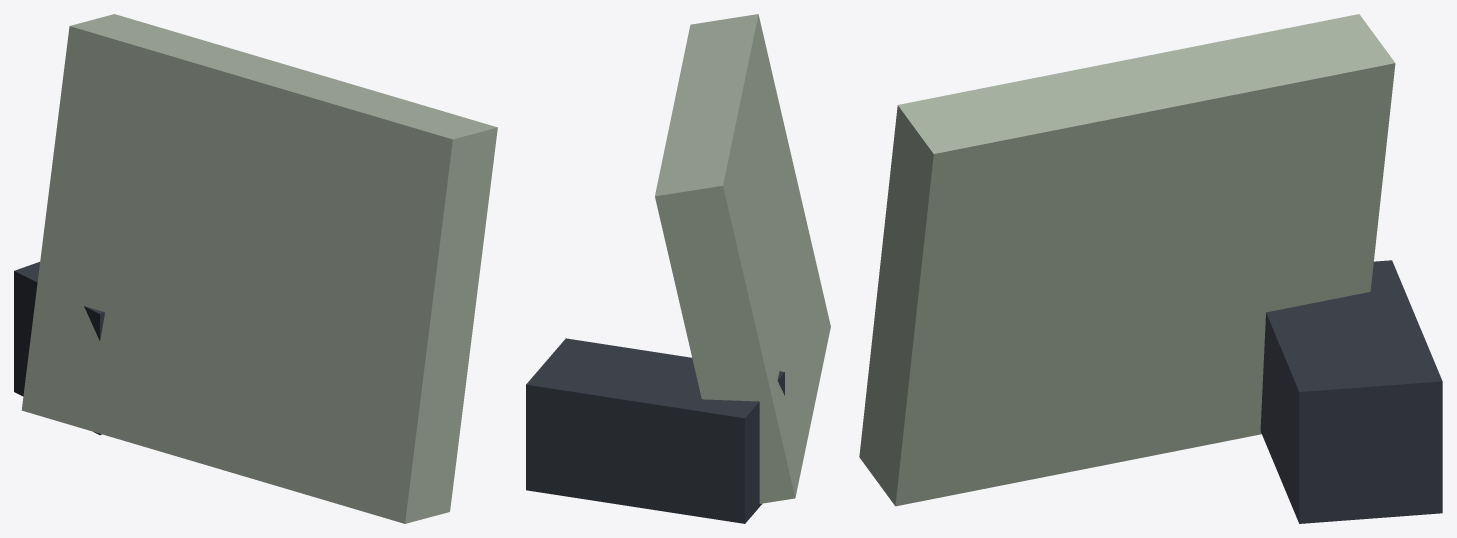
The model's file is SH_HullShard_B_01.glb.
3 views of the same model, side by side, from view 1: azimuth 30°, elevation 25°; view 2: azimuth 150°, elevation 25°; view 3: azimuth 270°, elevation 25° (orthographic). The views are drawn at different scales.
Parts seen in each view (by area): view 1: SH_HullShard_B_01; view 2: SH_HullShard_B_01; view 3: SH_HullShard_B_01.
Part boxes in pixels (<box>): SH_HullShard_B_01: <box>14,14,497,523</box>; SH_HullShard_B_01: <box>526,14,830,523</box>; SH_HullShard_B_01: <box>859,14,1442,523</box>.
Bounding box in the file's own units: 0.5153 × 0.6118 × 0.8016.
Materials: 1 (1 with a texture image).
